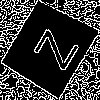Z: (23, 23, 80, 72)
